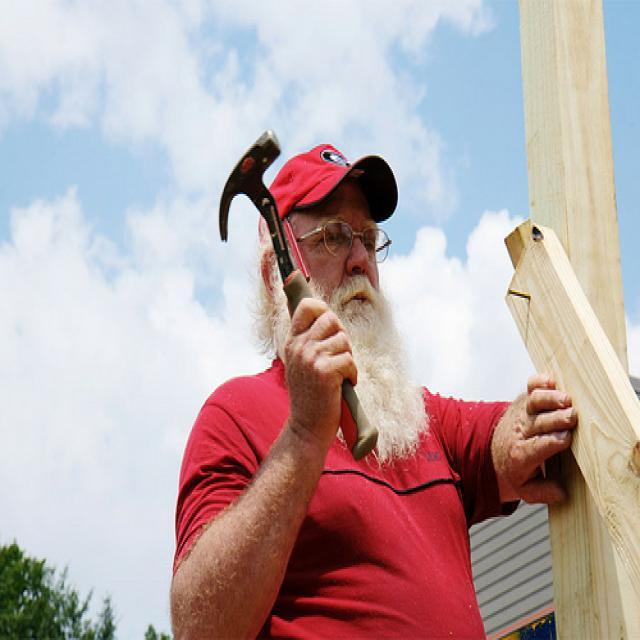hammer: (207, 112, 380, 468)
